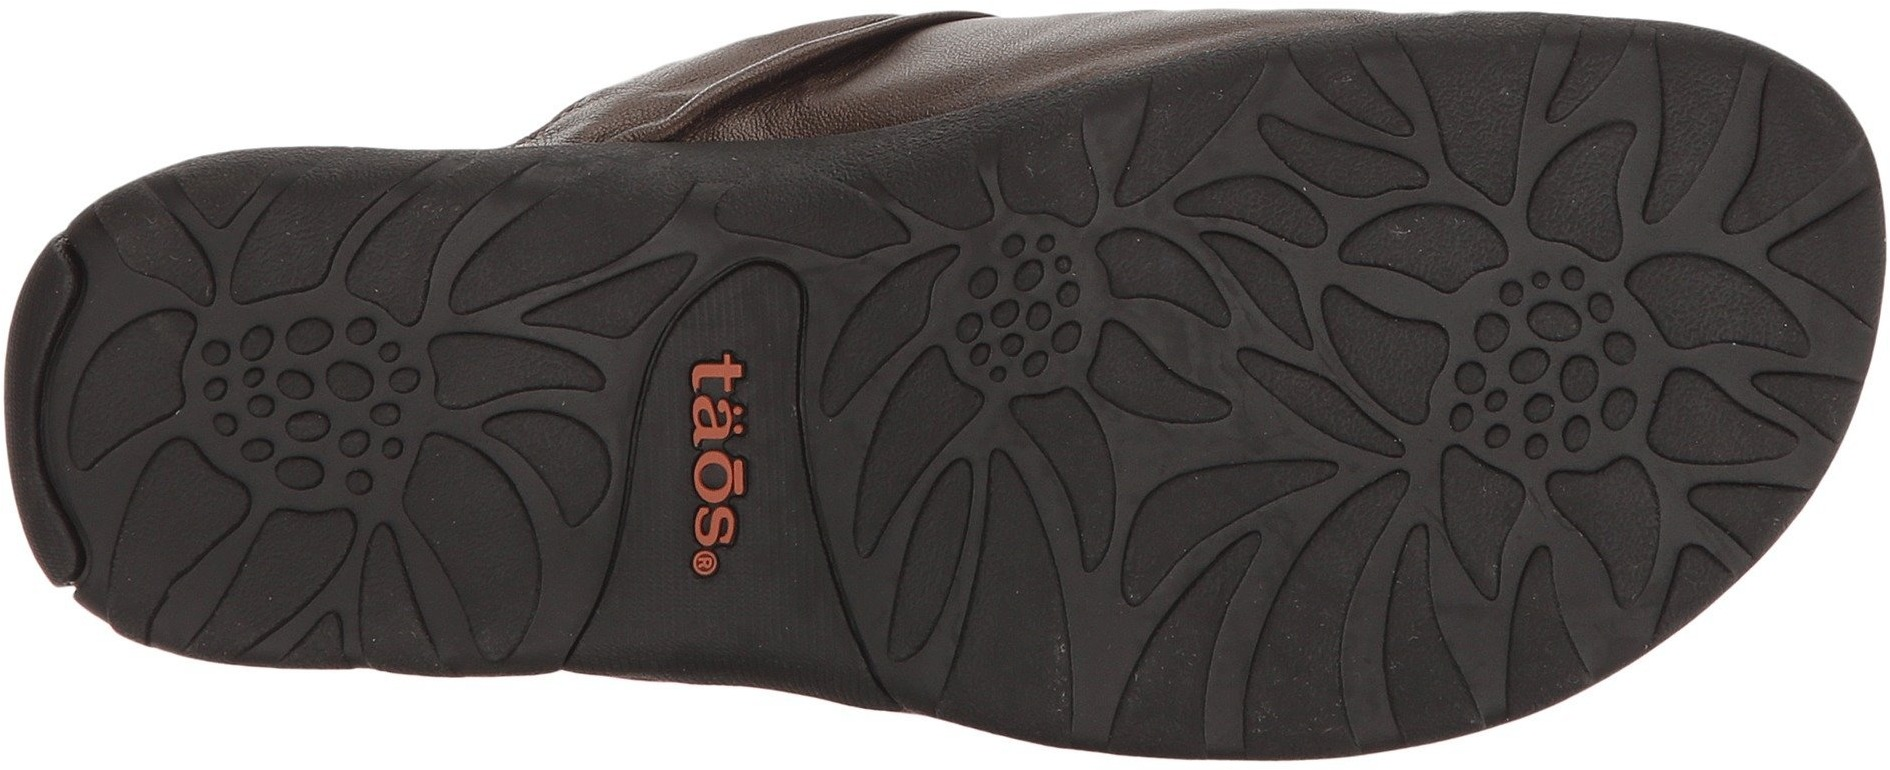circle: (1417, 247, 1665, 484), (194, 296, 439, 523)
other: (667, 582, 759, 668)
text: (669, 449, 767, 548), (674, 354, 767, 449)
triangle: (1073, 407, 1485, 745), (1088, 177, 1446, 502), (432, 225, 656, 423)
